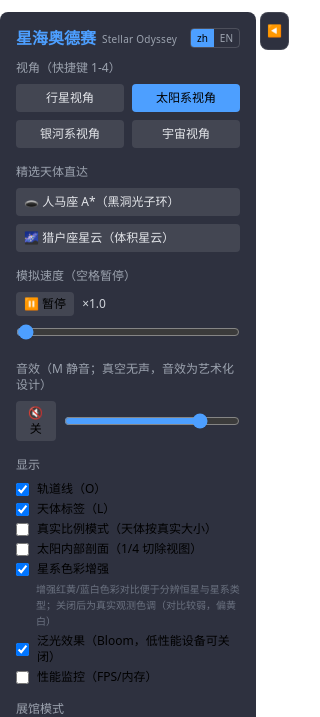
Test: ControlPanel 双语 + 语言切换入口（B3-D） › 点击 EN 即时切换（store.setLocale 生效，无需刷新）
The width and height of the screenshot is (320, 717).
Click the button "EN" at coordinates (226, 38), box [214,29,239,47]
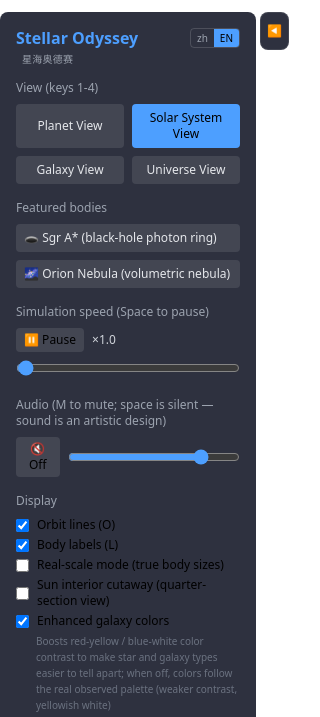
Expected: the heading "View (keys 1-4)" is shown, [16,79,98,96]
Expected: the text "Orbit lines (O)" is shown, [16,516,115,533]
Expected: the heading "Display" is shown, [16,492,57,509]
切回 zh 双向可逆
Click the button "zh" at coordinates (202, 38), box [191,29,214,47]
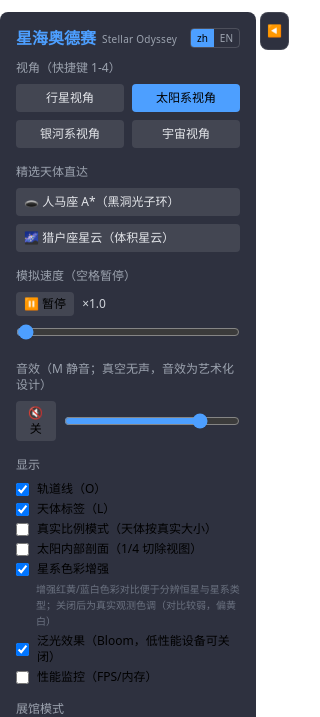
Expected: the heading "视角（快捷键 1-4）" is shown, [16,59,121,76]
